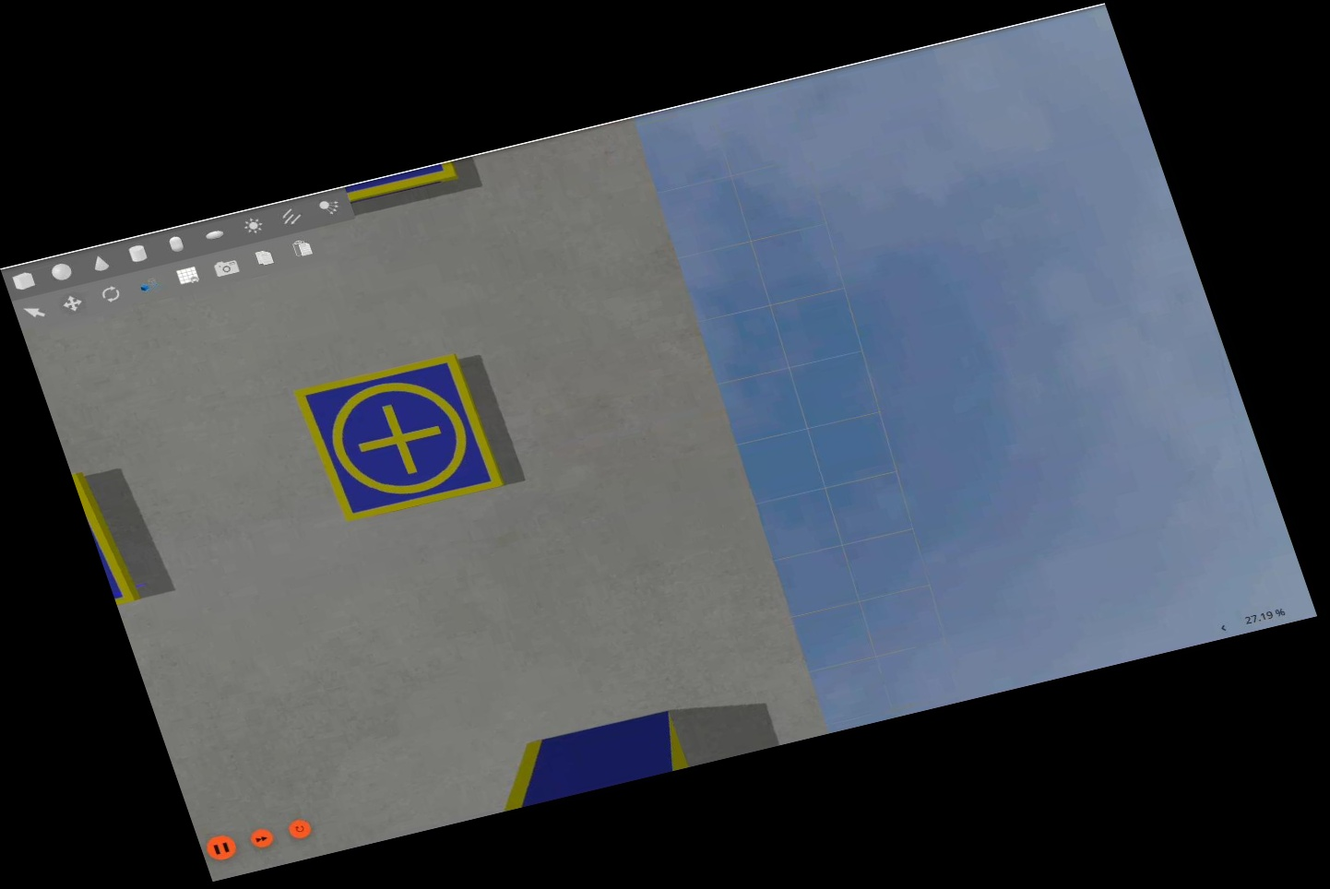small_base: (291, 348, 510, 527)
